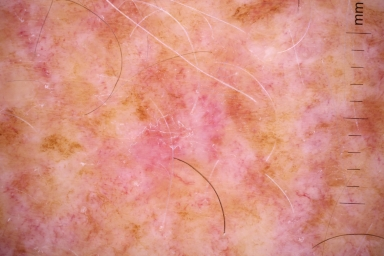nevus: (137, 93, 224, 172)
